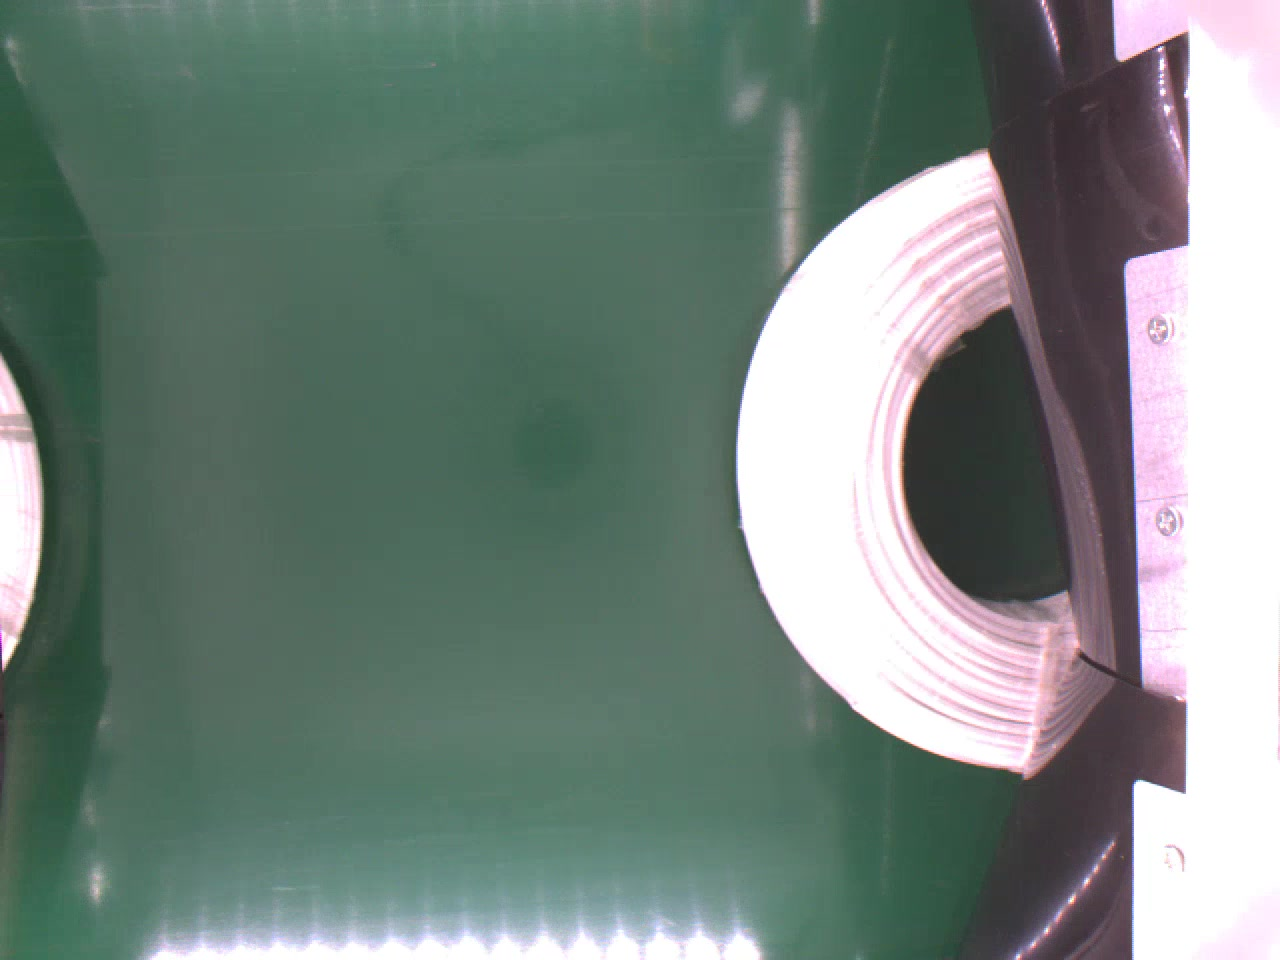white: (727, 142, 1081, 772)
